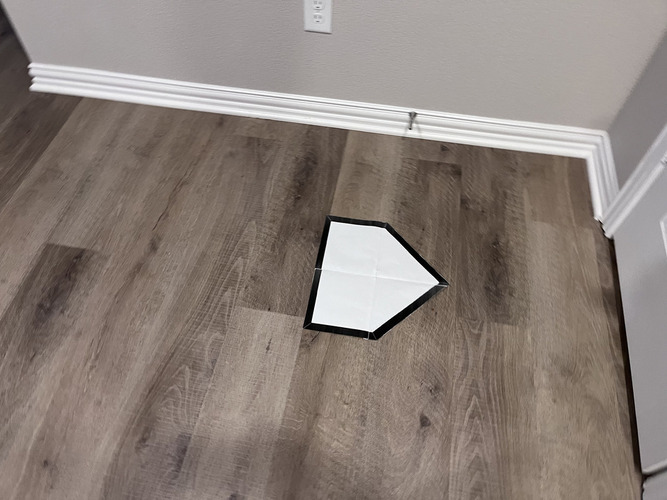homeplate: (303, 212, 448, 340)
